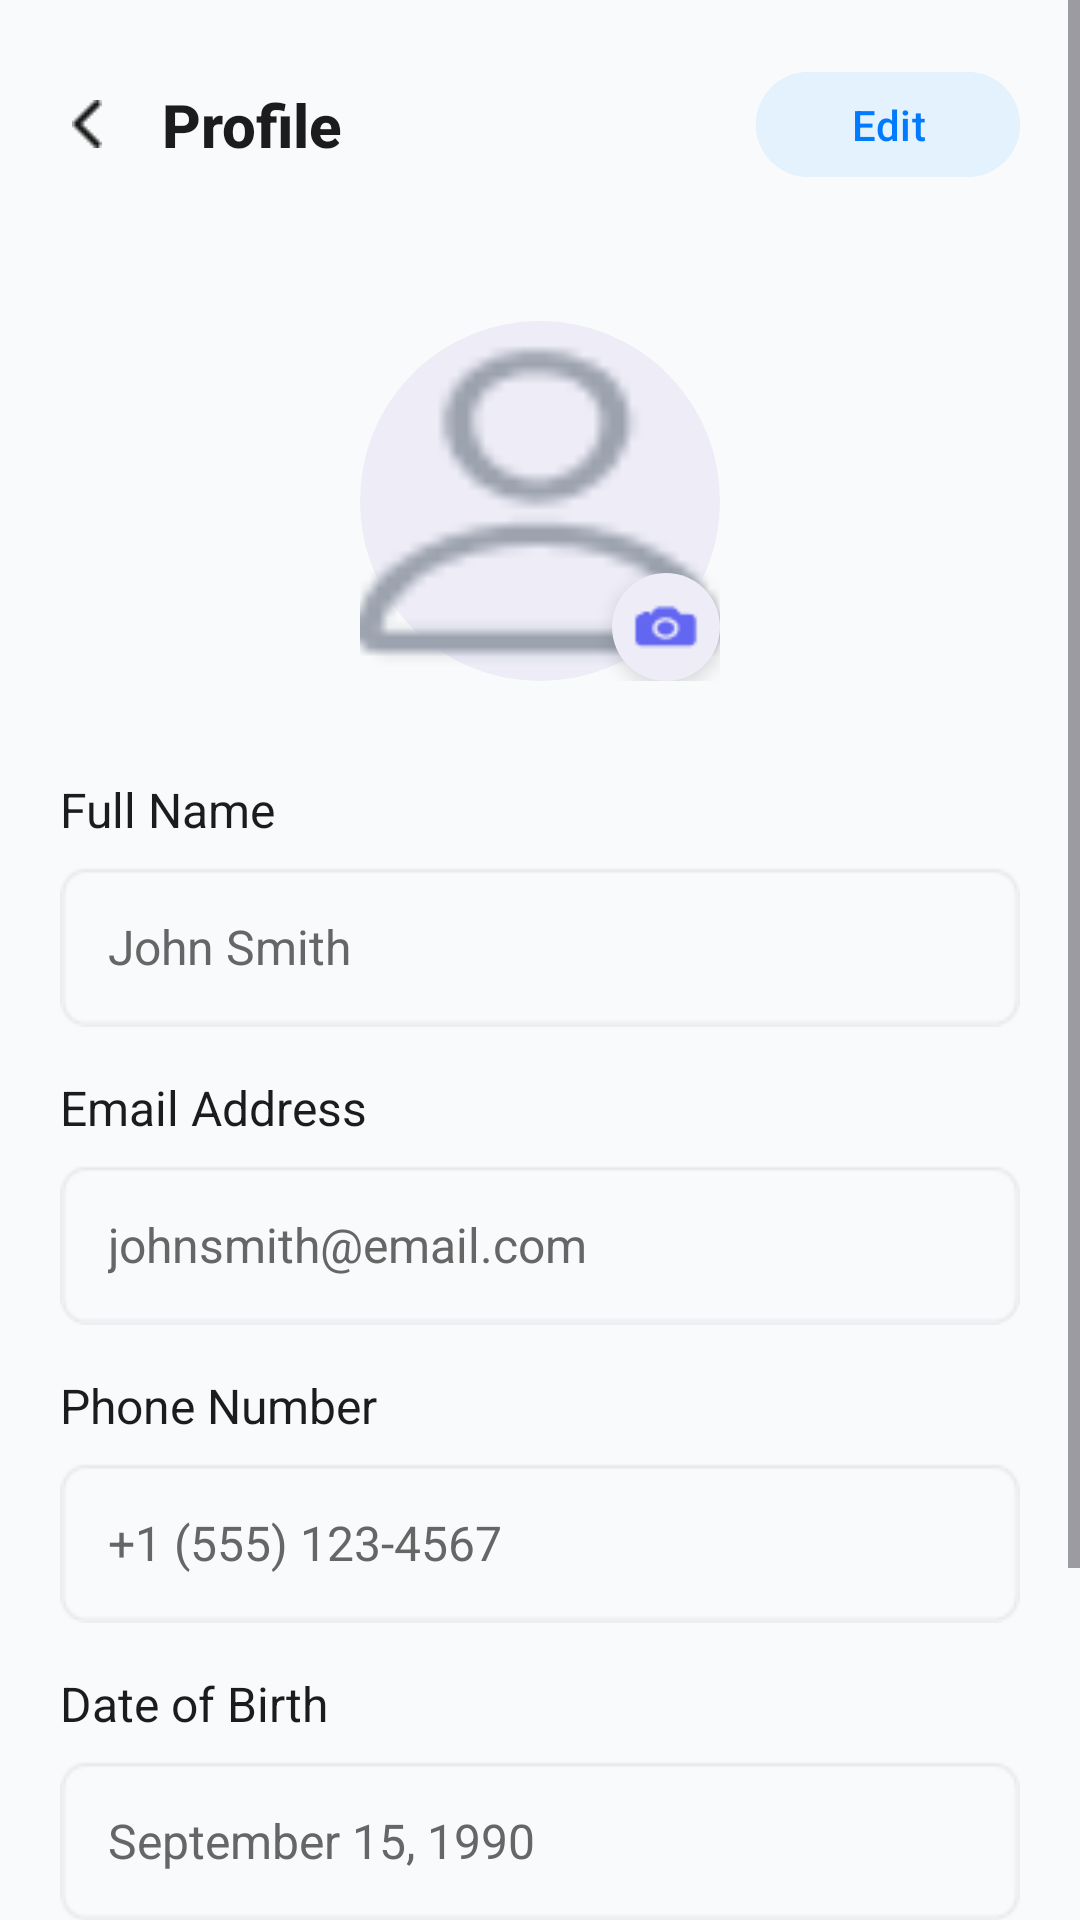

Icons on this 1080 x 1920 Android screen, each with its box as bbox=(x1, y1, x2, y2):
Back: bbox=(72, 100, 102, 148)
